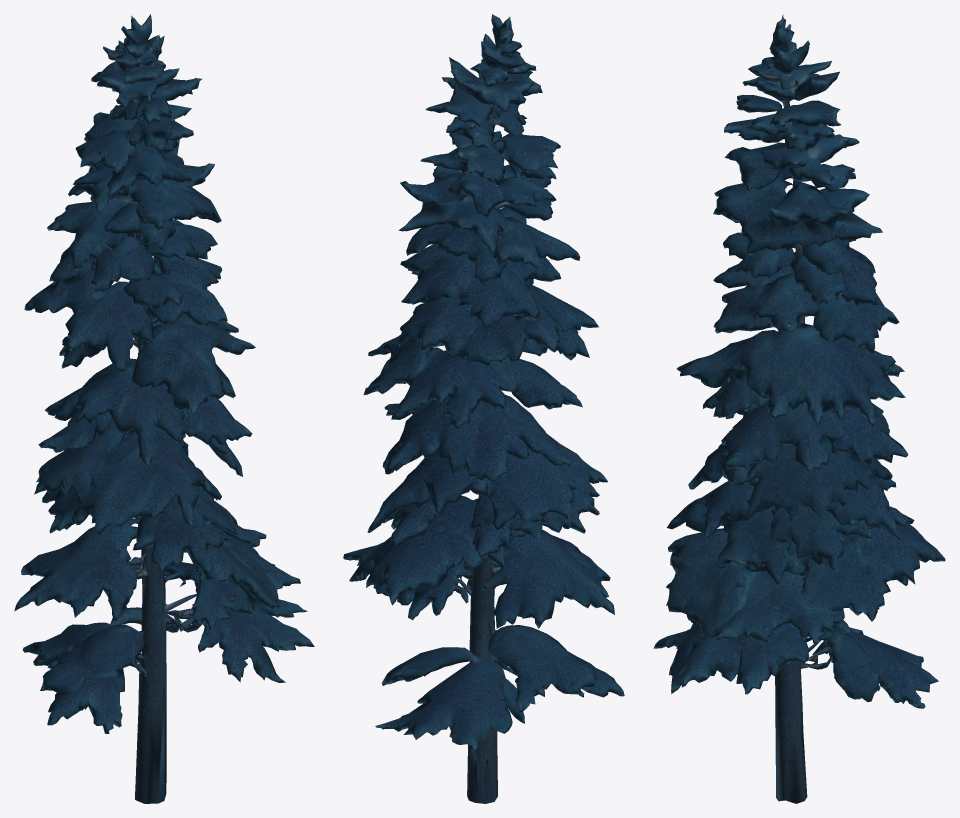
Rendered from pine.glb.
The picture shows the model from 3 angles, left to right: view 1: azimuth 30°, elevation 25°; view 2: azimuth 150°, elevation 25°; view 3: azimuth 270°, elevation 25°; orthographic projection. The views are drawn at different scales.
Bounding box in the file's own units: 0.6743 × 1.9 × 0.6495.
Materials: 1 (1 with a texture image).
